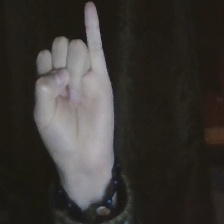I: (27, 1, 121, 158)
